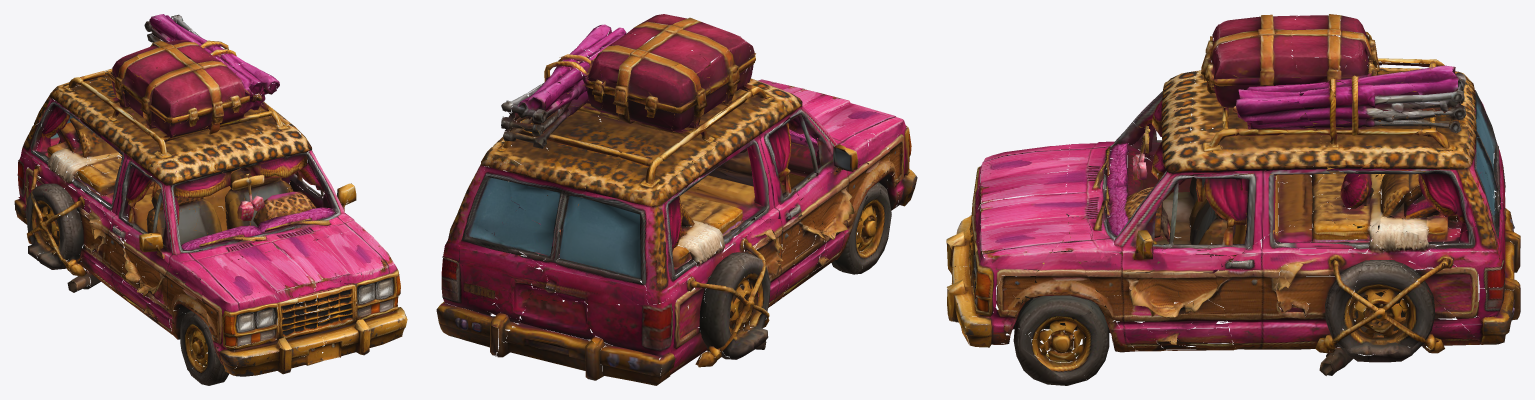
File: wagon.glb
3 renders of one model, left to right at view 1: azimuth 30°, elevation 25°; view 2: azimuth 150°, elevation 25°; view 3: azimuth 270°, elevation 25°, orthographic. The views are drawn at different scales.
Visible parts, largest first — view 1: tripo_node_c5f6be52-522f-472d-9a93-5ad838594824; view 2: tripo_node_c5f6be52-522f-472d-9a93-5ad838594824; view 3: tripo_node_c5f6be52-522f-472d-9a93-5ad838594824.
Boxes of the visible parts, x1,y1,x2,y2 form: tripo_node_c5f6be52-522f-472d-9a93-5ad838594824: (14,14,407,385); tripo_node_c5f6be52-522f-472d-9a93-5ad838594824: (436,14,917,385); tripo_node_c5f6be52-522f-472d-9a93-5ad838594824: (946,14,1520,385).
Bounding box in the file's own units: 0.6185 × 0.5796 × 1.
Materials: 1 (1 with a texture image).
